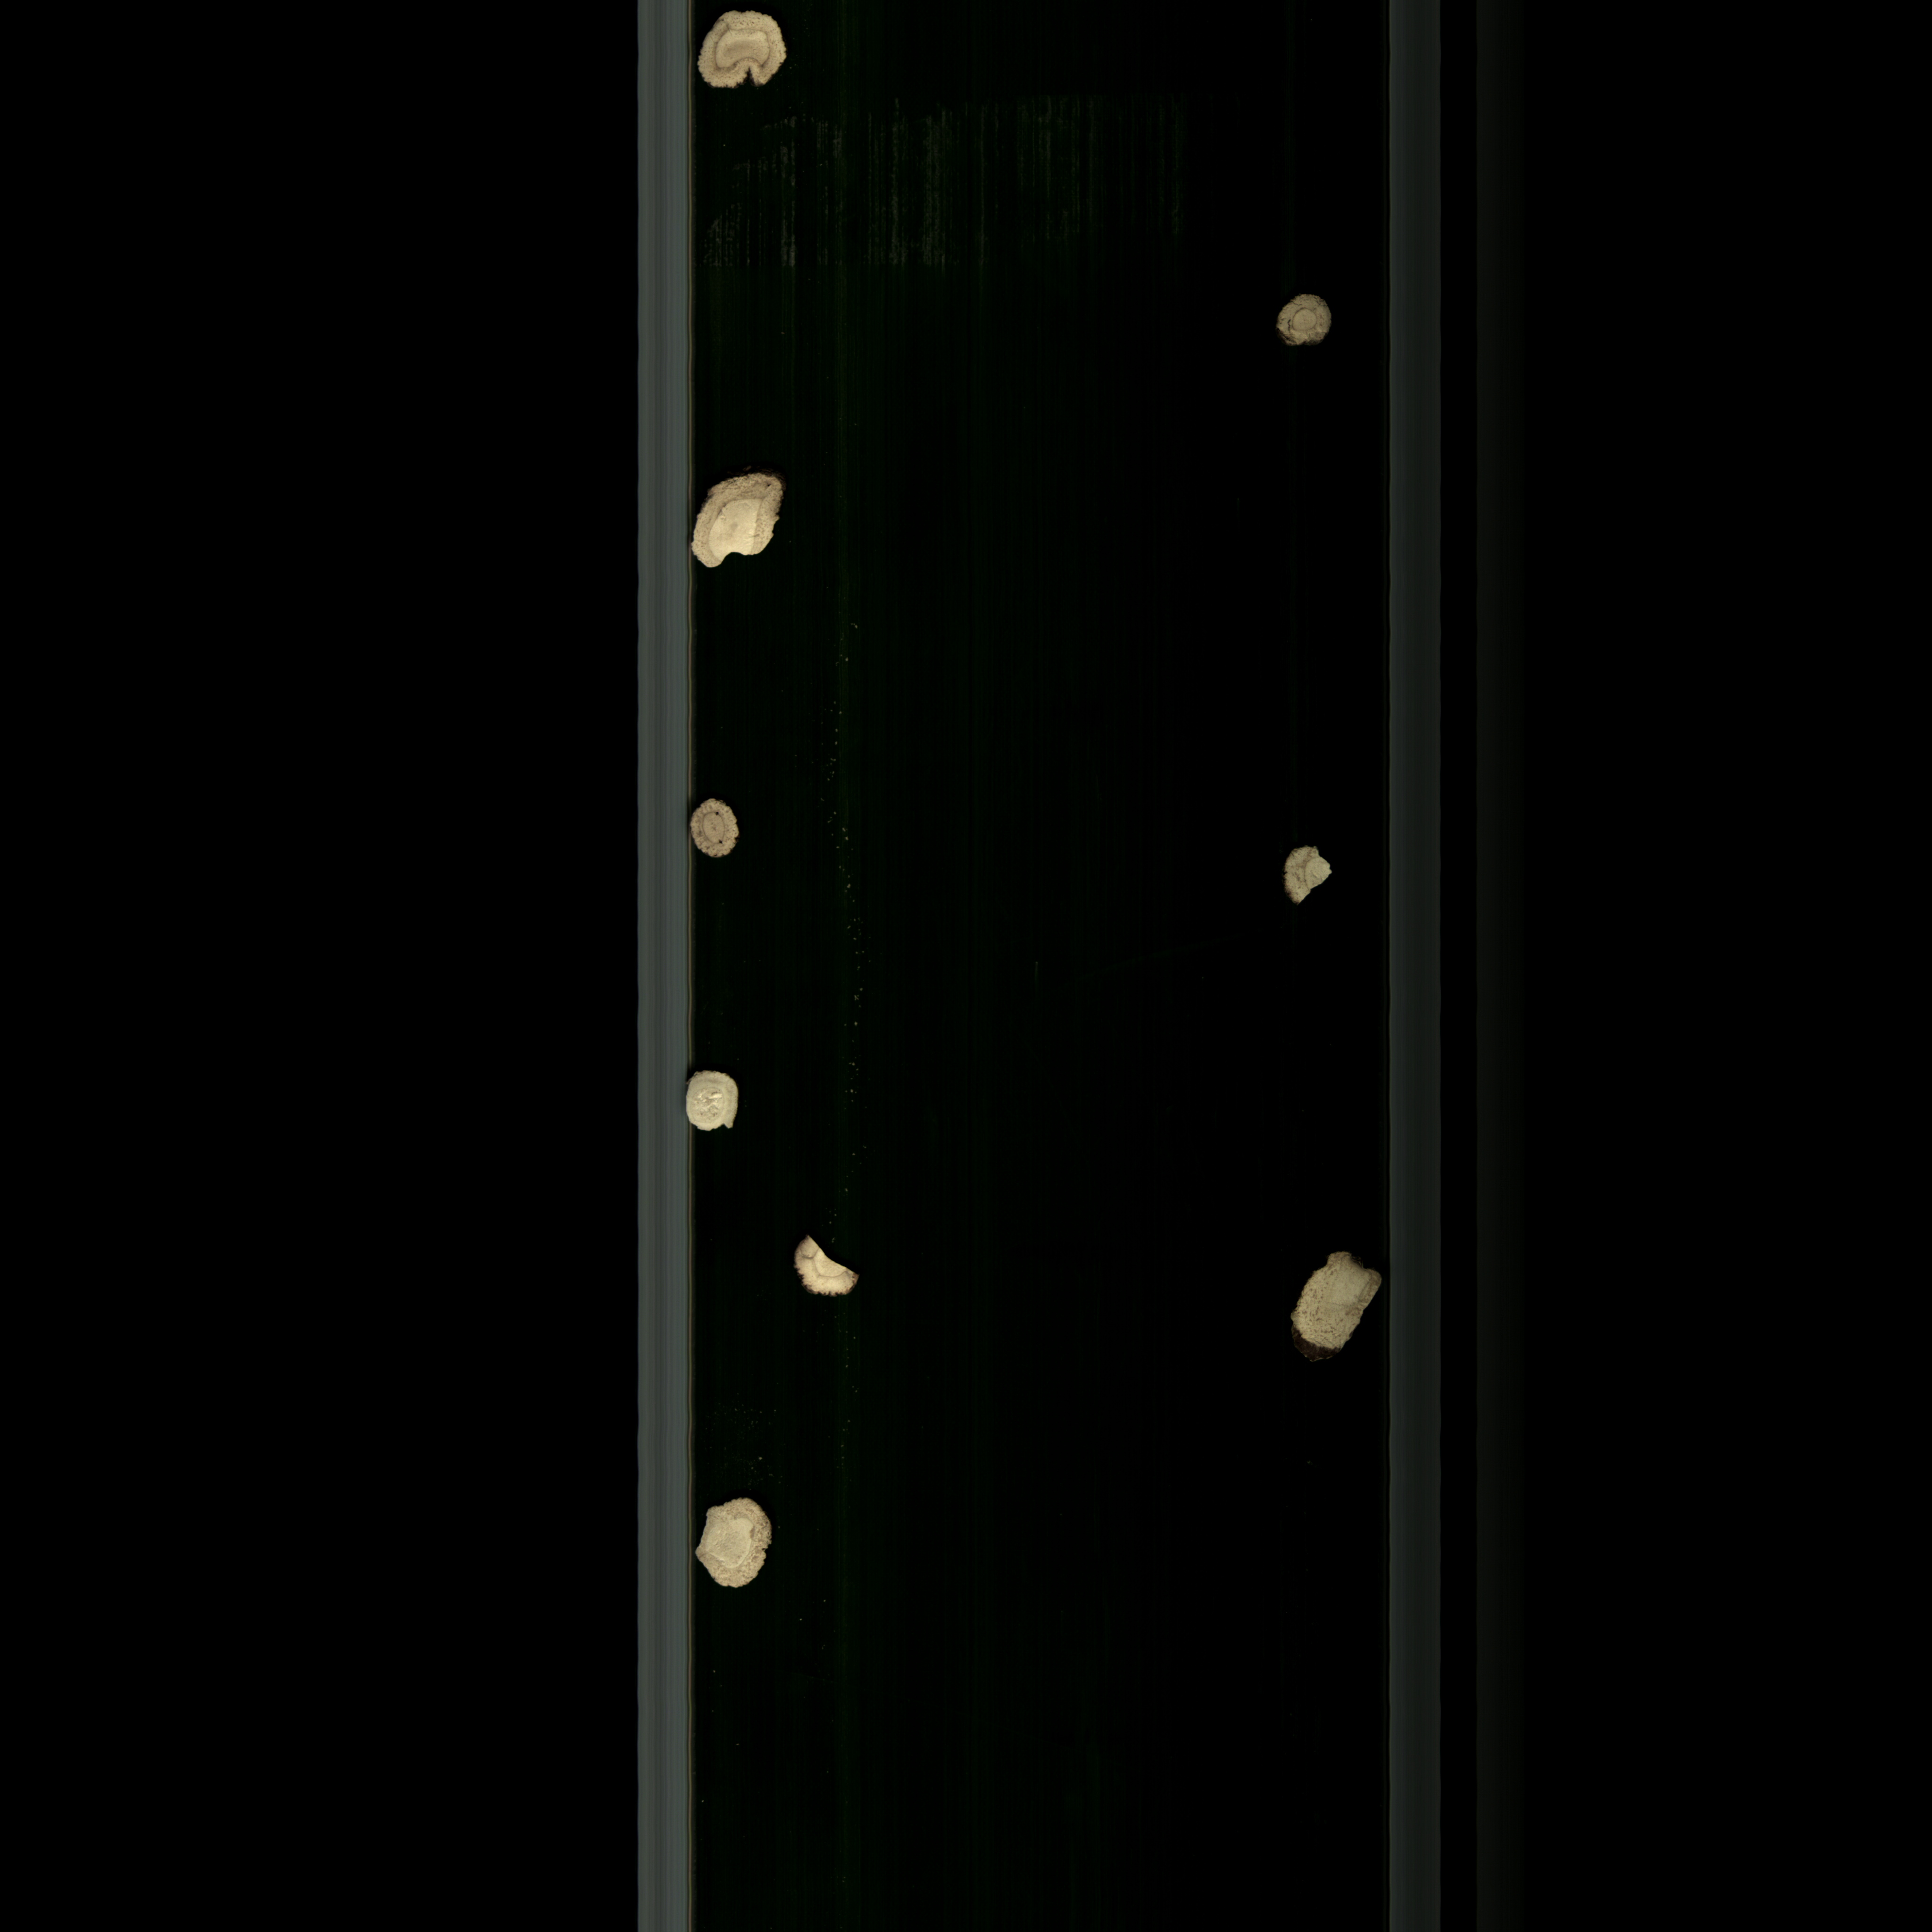debris: (1281, 1246, 1392, 1369), (692, 471, 791, 579), (695, 1490, 787, 1601), (780, 1228, 874, 1309), (1265, 832, 1341, 913), (683, 1069, 750, 1139)
hole: (690, 787, 740, 870)
moldy: (688, 2, 801, 96), (1270, 288, 1338, 354)
